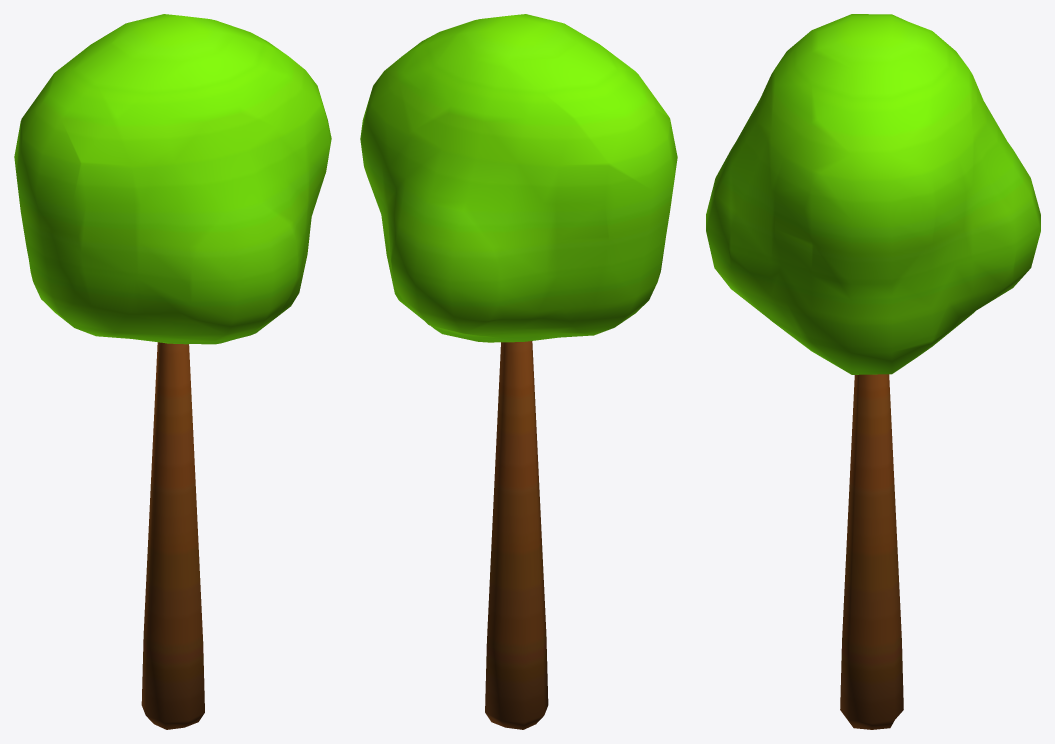
File: tree-1.fbx
3 views of the same model, side by side, from view 1: azimuth 30°, elevation 25°; view 2: azimuth 150°, elevation 25°; view 3: azimuth 270°, elevation 25° (orthographic).
Parts seen in each view (by area): view 1: Mball.016, tree-1; view 2: Mball.016, tree-1; view 3: Mball.016, tree-1.
Boxes of the visible parts, <box> form: Mball.016: <box>14,14,331,344</box>; tree-1: <box>141,342,204,729</box>; Mball.016: <box>360,14,677,342</box>; tree-1: <box>485,341,548,729</box>; Mball.016: <box>706,14,1040,374</box>; tree-1: <box>840,374,903,729</box>.
Size of the model in its own units: 696 by 1577 by 693.
